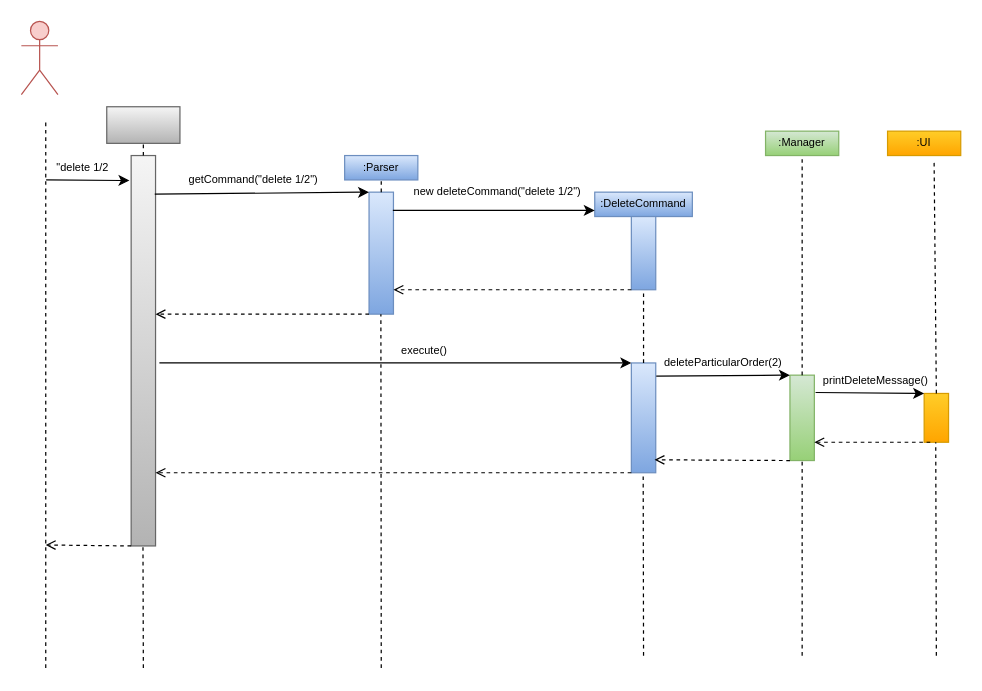
The diagram is 982 pixels wide and 691 high, and some of its shapes have lost their labels. The shapes that lost their labels are listed below. From the top down, each one's centre as x and y in pixels, then its label:
At (39,57): "User".
At (143,124): ":Duke".
